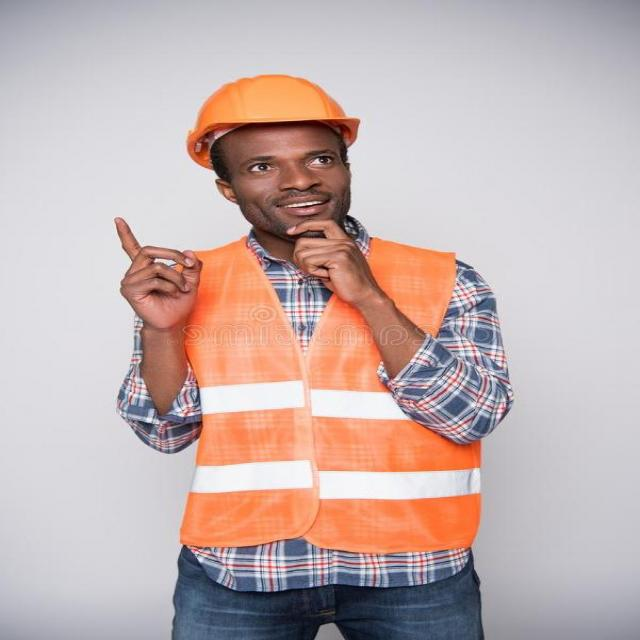Reflective-Jacket: (164, 238, 478, 550)
Safety-Helmet: (179, 69, 366, 150)
